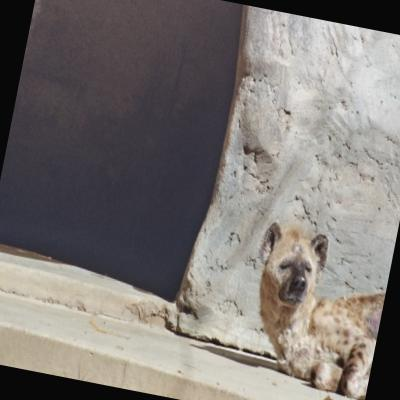hyenas: (220, 162, 400, 400)
